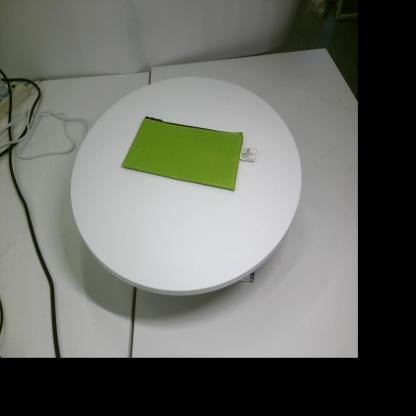Stationery: (122, 116, 257, 191)
